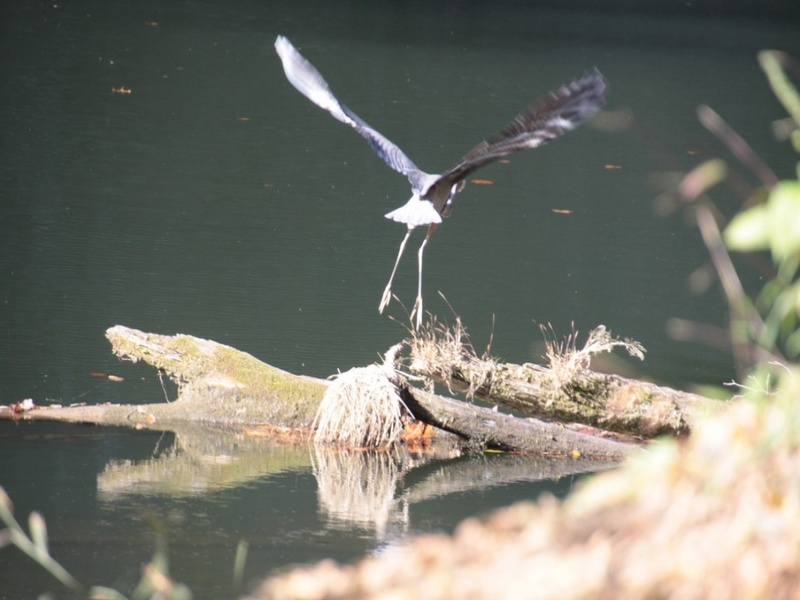heron: (269, 32, 607, 339)
